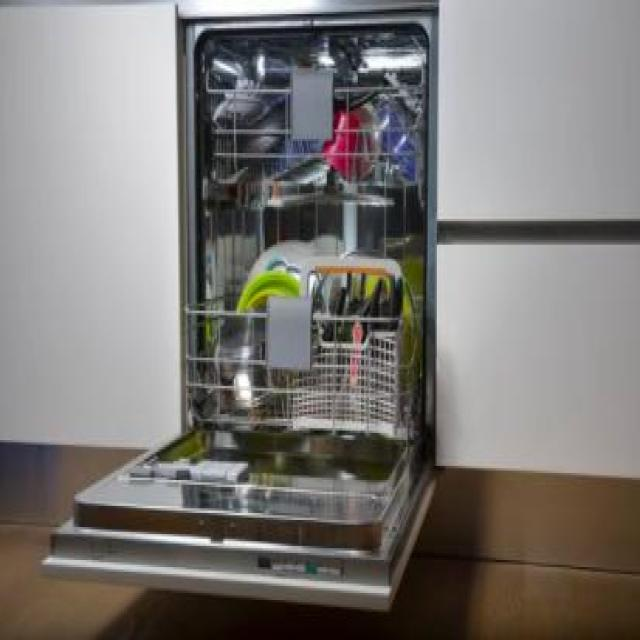dishwasher: (34, 0, 437, 602)
